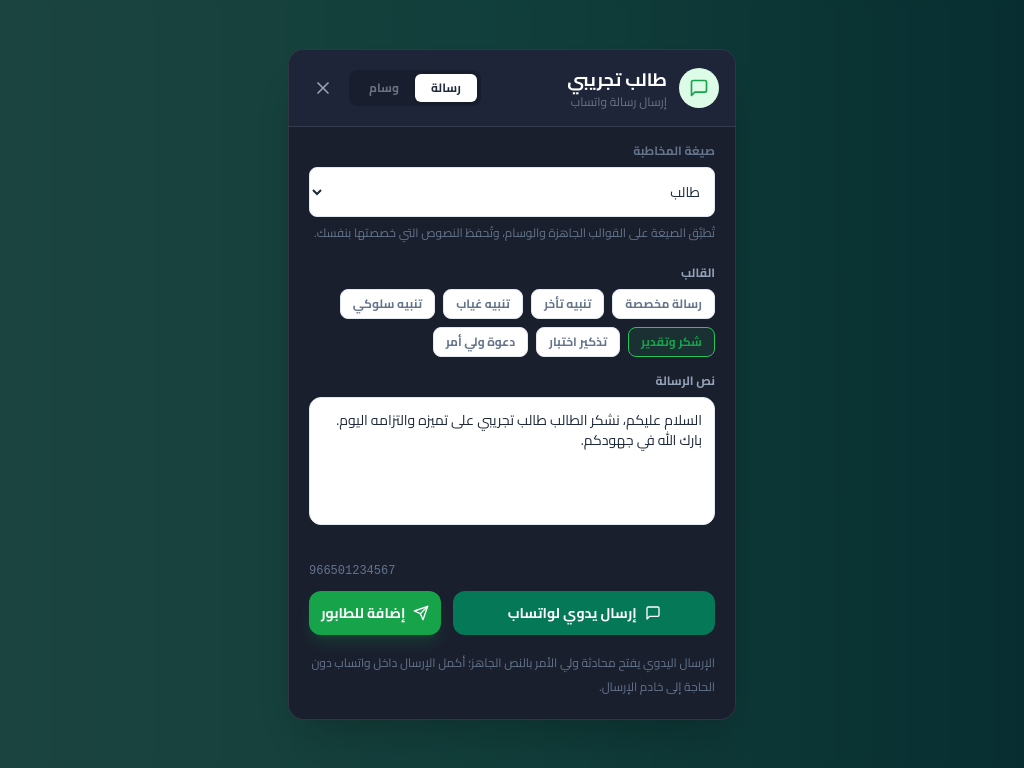
Test: Quick WhatsApp sending › queues the badge attachment and displays its success in badge mode
Click the button "وسام" at (384, 88), box [353,74,415,102]
(page scrolled)
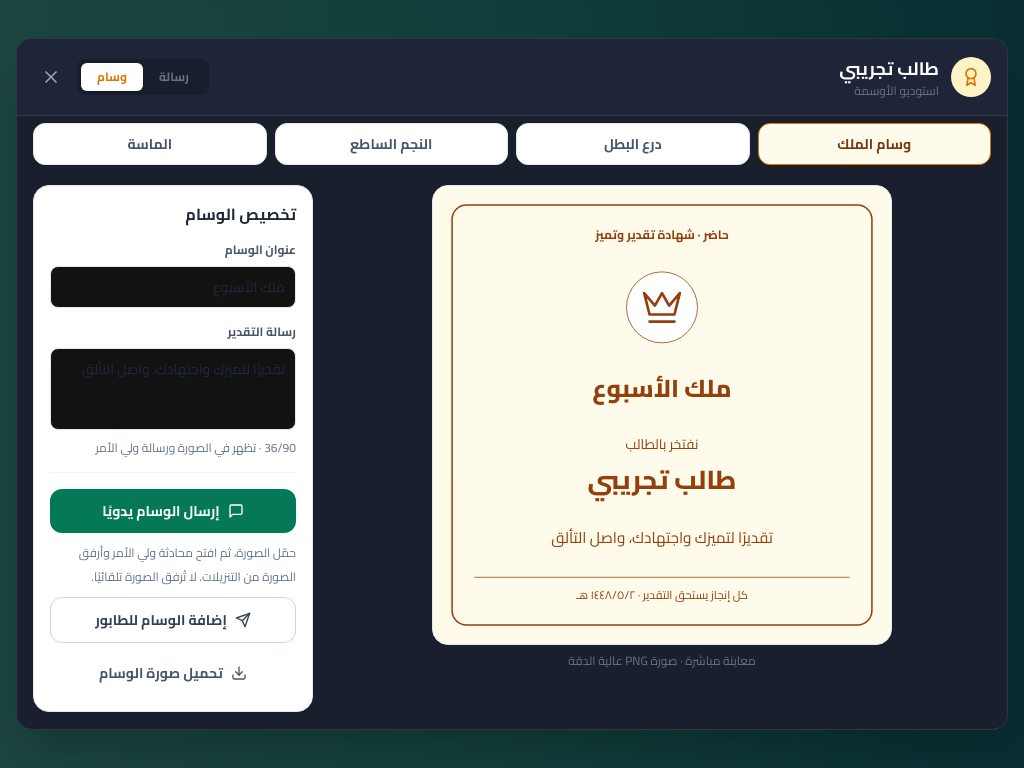
Click the button "إضافة الوسام للطابور" at (173, 620), box [50,597,296,643]
(page scrolled)
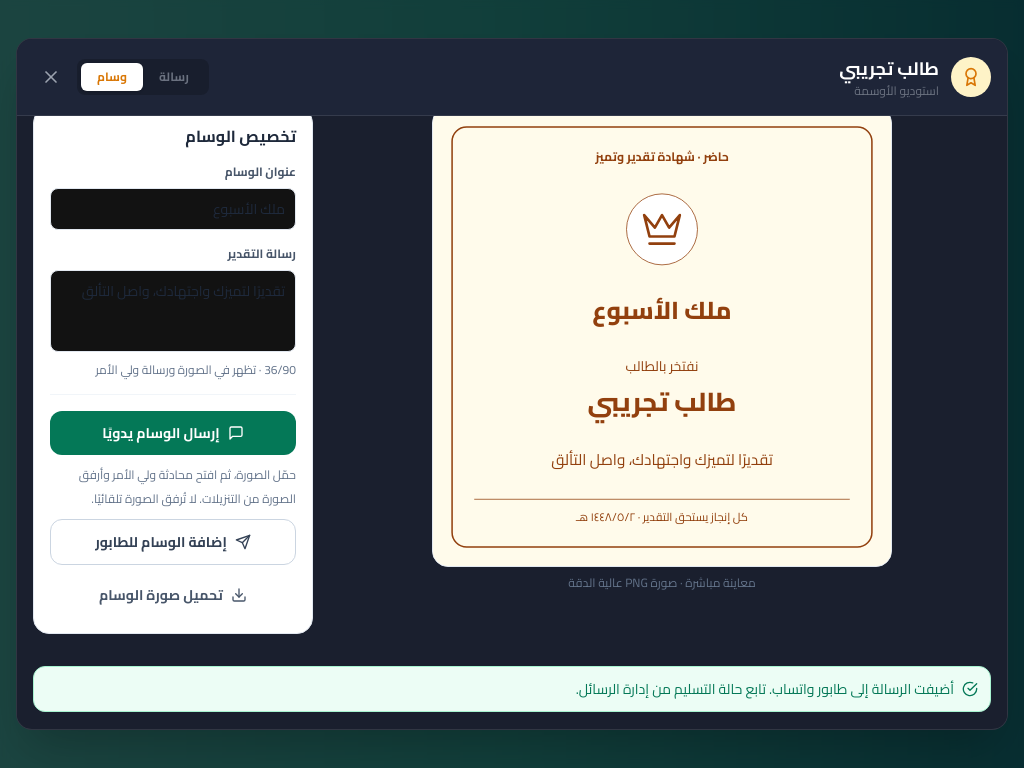
Expected: the message shows "أضيفت الرسالة", [576,676,954,702]
